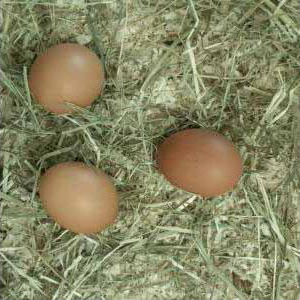egg: (38, 162, 119, 236), (157, 129, 244, 196), (30, 43, 105, 114)
